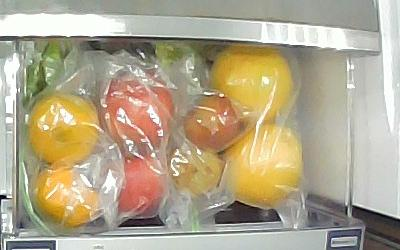apple_vinyl: (101, 76, 176, 157), (115, 154, 166, 214)
grapefruit_vinyl: (208, 45, 294, 124), (222, 125, 302, 204)
persimmon_vinyl: (28, 94, 98, 164), (34, 168, 99, 224)
prune_vinyl: (186, 92, 241, 151), (170, 144, 224, 195)
